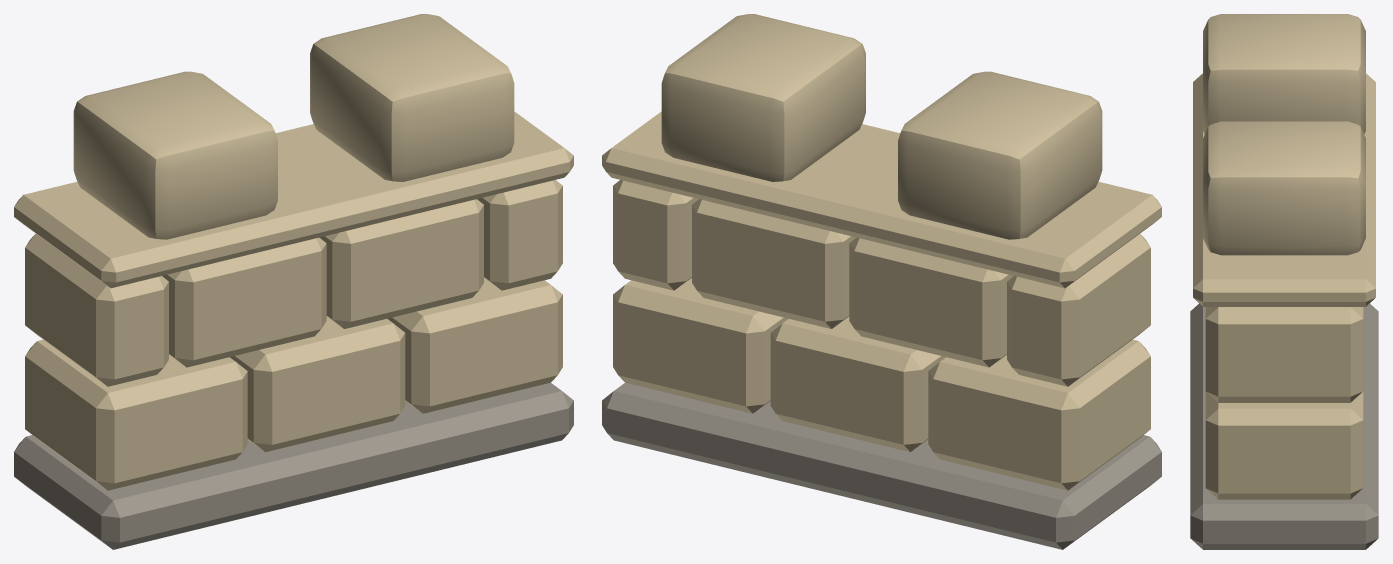
File: Wall.fbx
The picture shows the model from 3 angles, left to right: view 1: azimuth 30°, elevation 25°; view 2: azimuth 150°, elevation 25°; view 3: azimuth 270°, elevation 25°; orthographic projection. The views are drawn at different scales.
Visible parts, largest first — view 1: Wall; view 2: Wall; view 3: Wall.
Boxes of the visible parts, x1,y1,x2,y2 form: Wall: (14, 14, 573, 549); Wall: (602, 14, 1161, 549); Wall: (1190, 14, 1378, 549).
Size of the model in its own units: 2 by 1.55 by 0.74.
